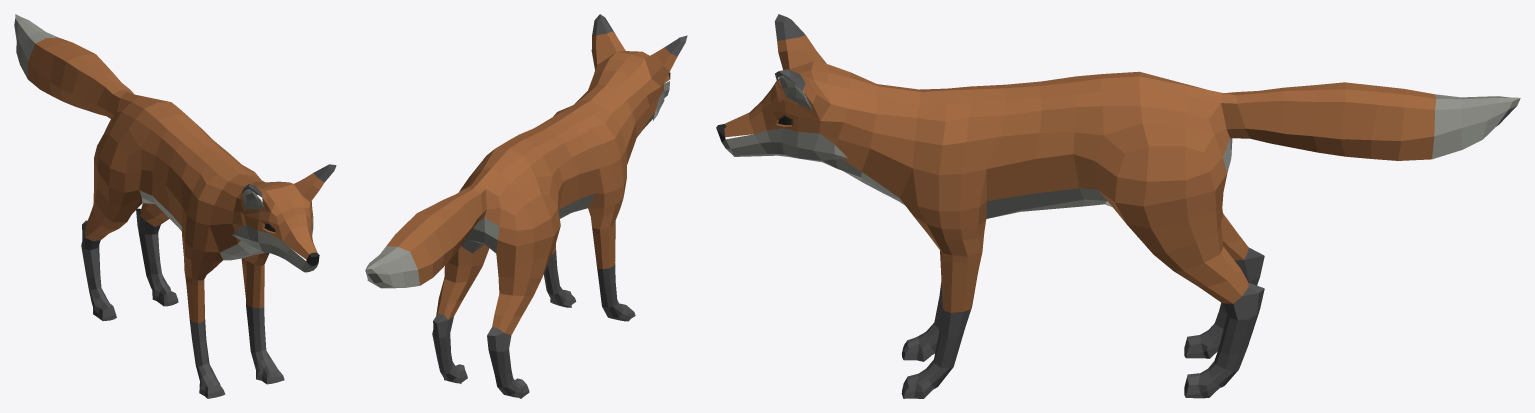
Rendered from fox.glb.
3 views of the same model, side by side, from view 1: azimuth 30°, elevation 25°; view 2: azimuth 150°, elevation 25°; view 3: azimuth 270°, elevation 25° (orthographic). The views are drawn at different scales.
Parts seen in each view (by area): view 1: Fox; view 2: Fox; view 3: Fox.
Boxes of the visible parts, bbox=[...] form: Fox: bbox=[14, 14, 336, 398]; Fox: bbox=[365, 14, 687, 398]; Fox: bbox=[716, 14, 1520, 398].
Bounding box in the file's own units: 1.06 × 2.67 × 5.88.
